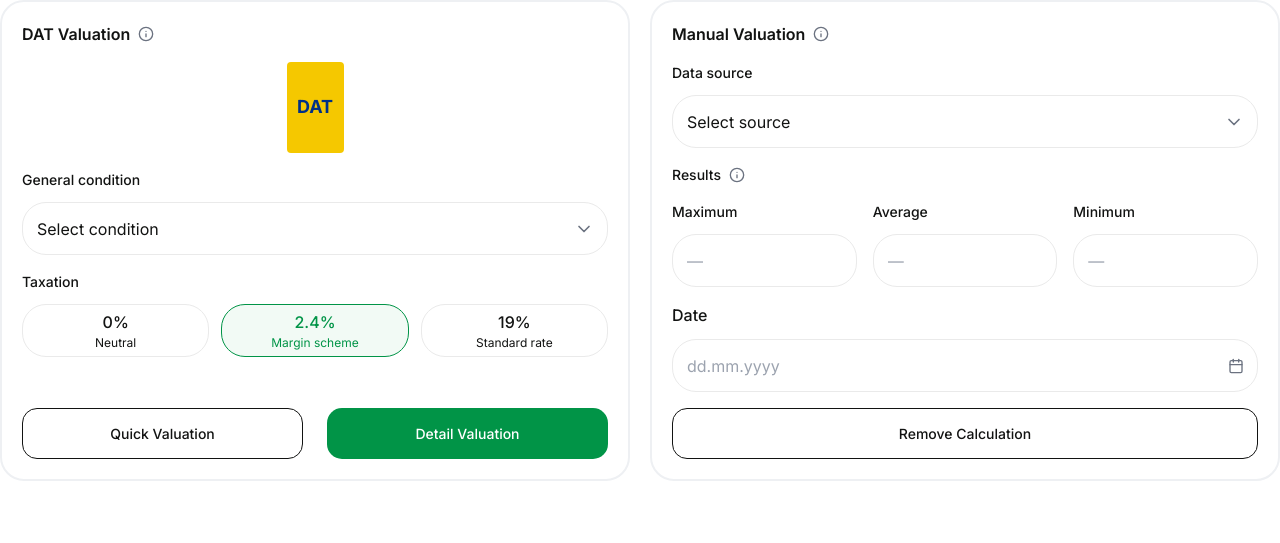
Scenario: ValuationSection › says why Quick Valuation cannot run instead of going silent
Click the button "Quick Valuation". click: (162, 434)
box: [22,408,303,459]
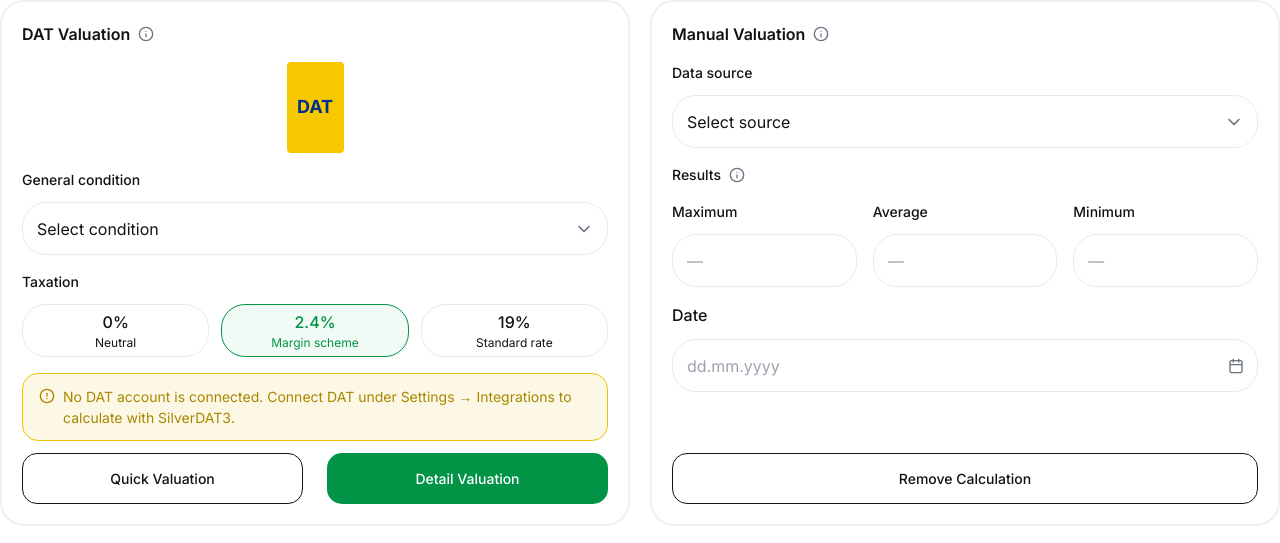
Expected: the text "No DAT account is connected" is shown, [63,388,572,426]
